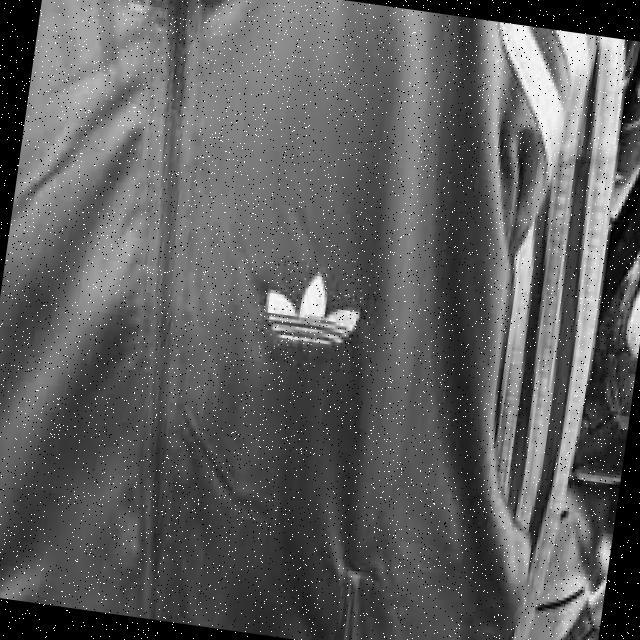Adidas: (250, 249, 381, 380)
